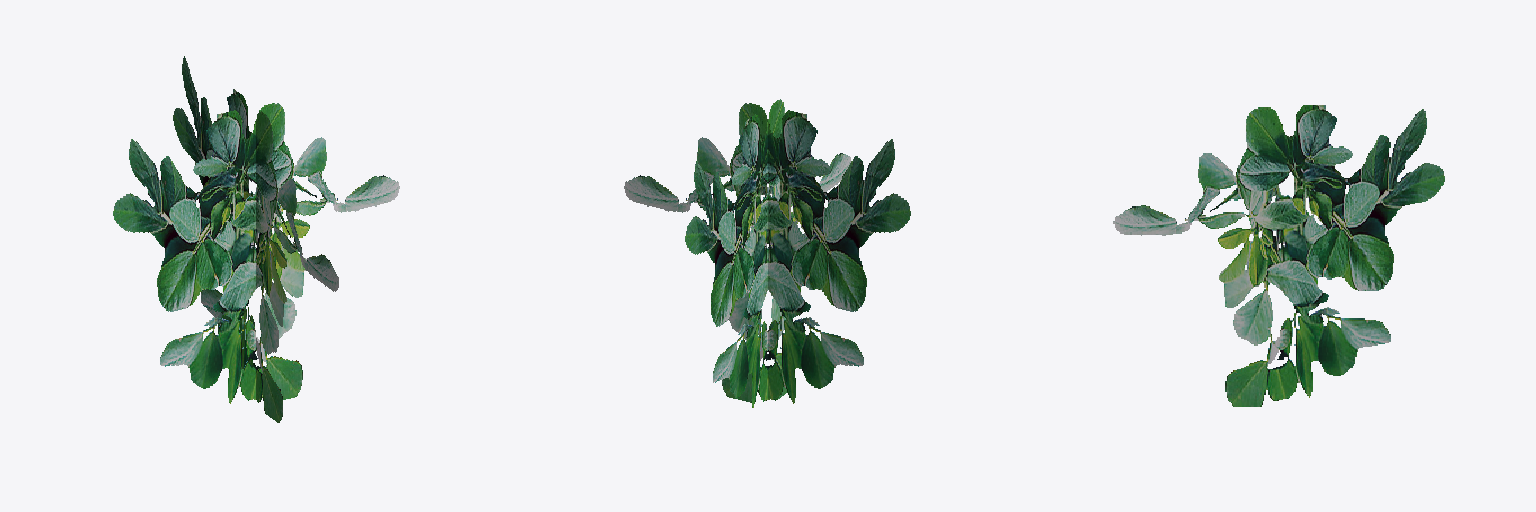
3 views of the same model, side by side, from view 1: azimuth 30°, elevation 25°; view 2: azimuth 150°, elevation 25°; view 3: azimuth 270°, elevation 25° (orthographic).
Parts seen in each view (by area): view 1: Plane001, Plane002; view 2: Plane001, Plane002; view 3: Plane002.
Boxes of the visible parts, box(x1,y1,x2,y2) form: Plane001: box(113, 103, 399, 403); Plane002: box(173, 56, 338, 422); Plane001: box(624, 103, 910, 403); Plane002: box(685, 99, 850, 407); Plane002: box(1113, 105, 1444, 406).
Size of the model in its own units: 0.4 by 0.4 by 0.4.
Materials: 1 (1 with a texture image).